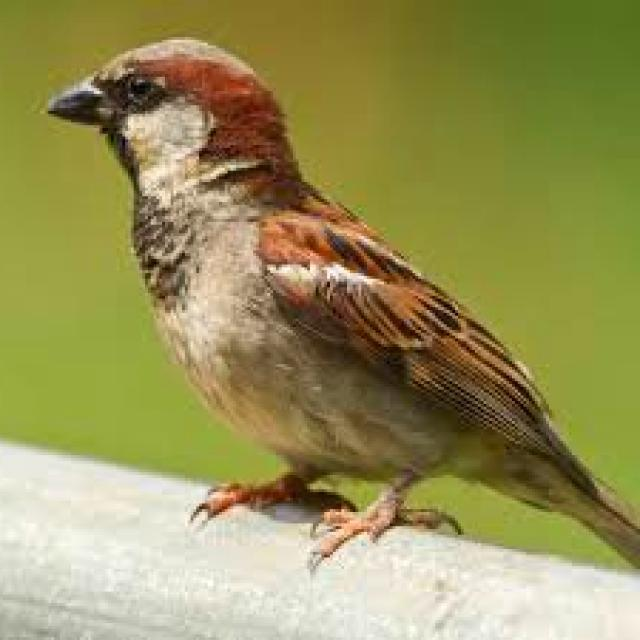sparrow: (51, 37, 640, 566)
